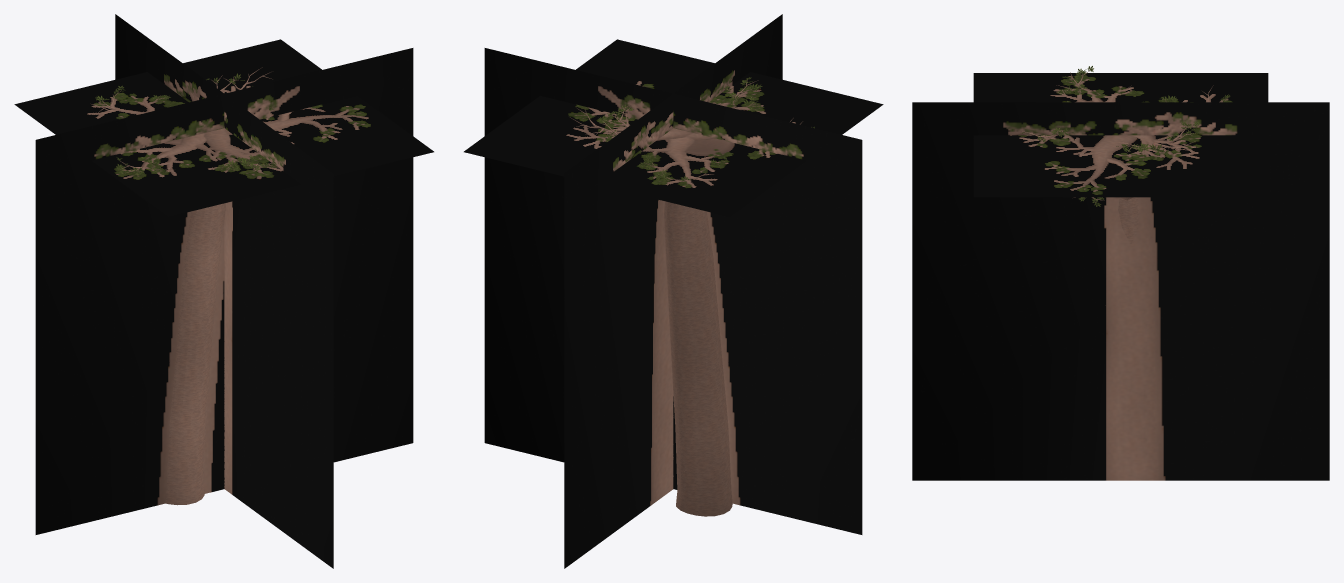
The model's file is Baoba_05_Grandidieri_Inclinado.glb.
3 views of the same model, side by side, from view 1: azimuth 30°, elevation 25°; view 2: azimuth 150°, elevation 25°; view 3: azimuth 270°, elevation 25° (orthographic). The views are drawn at different scales.
Visible parts, largest first — view 1: Baoba_05_Grandidieri_Inclinado impostor, Tronco, Folhas palmadas; view 2: Baoba_05_Grandidieri_Inclinado impostor, Tronco, Folhas palmadas; view 3: Baoba_05_Grandidieri_Inclinado impostor, Folhas palmadas, Tronco.
Part boxes in pixels (bbox=[...]): Baoba_05_Grandidieri_Inclinado impostor: bbox=[14, 14, 433, 568]; Tronco: bbox=[165, 203, 225, 505]; Folhas palmadas: bbox=[95, 73, 276, 175]; Baoba_05_Grandidieri_Inclinado impostor: bbox=[464, 14, 883, 568]; Tronco: bbox=[664, 201, 732, 516]; Folhas palmadas: bbox=[598, 77, 814, 180]; Baoba_05_Grandidieri_Inclinado impostor: bbox=[912, 73, 1329, 480]; Folhas palmadas: bbox=[1020, 66, 1230, 206]; Tronco: bbox=[1118, 197, 1139, 245].
Size of what is drawn, in the model's own units: 24.08 by 24.08 by 24.08.
Materials: 3 (3 with a texture image).
